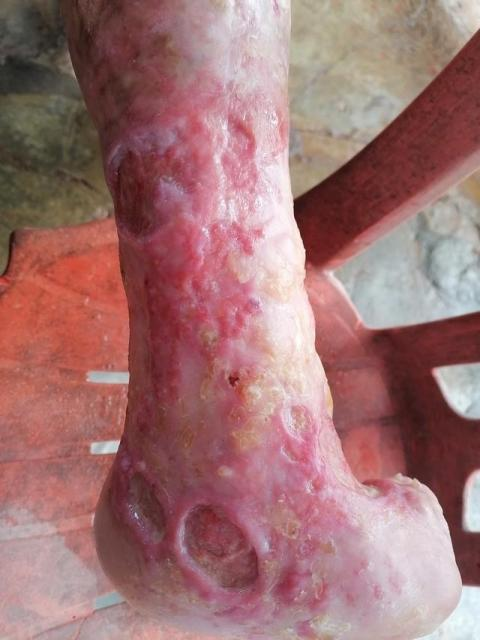wound: (125, 218, 276, 467), (218, 400, 339, 638), (104, 126, 198, 246), (176, 499, 265, 605), (216, 101, 283, 223), (126, 466, 172, 546)
